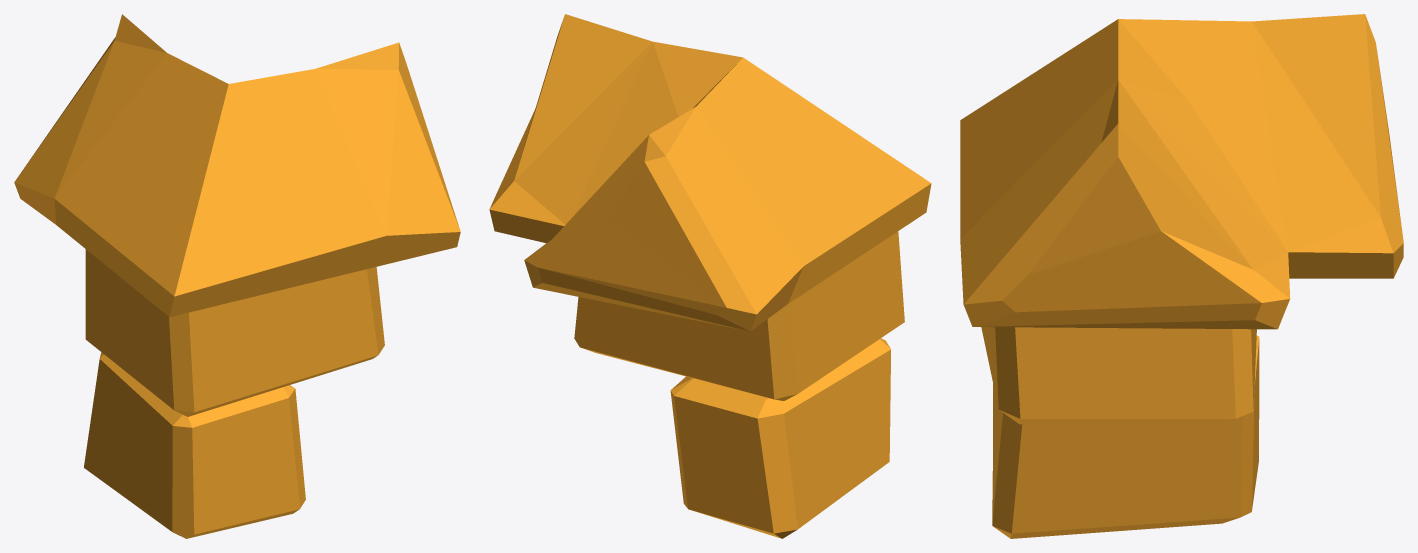
Rendered from SM_Crenelations_Backwall_Corner_Fantasy.fbx.
3 views of the same model, side by side, from view 1: azimuth 30°, elevation 25°; view 2: azimuth 150°, elevation 25°; view 3: azimuth 270°, elevation 25° (orthographic). The views are drawn at different scales.
Parts seen in each view (by area): view 1: SM_Crenelations_Backwall_Corner_Fantasy; view 2: SM_Crenelations_Backwall_Corner_Fantasy; view 3: SM_Crenelations_Backwall_Corner_Fantasy.
Part boxes in pixels (bbox=[...]): SM_Crenelations_Backwall_Corner_Fantasy: bbox=[14, 14, 460, 538]; SM_Crenelations_Backwall_Corner_Fantasy: bbox=[489, 14, 931, 538]; SM_Crenelations_Backwall_Corner_Fantasy: bbox=[960, 14, 1403, 538].
Size of the model in its own units: 0.8917 by 1.15 by 0.9134.
